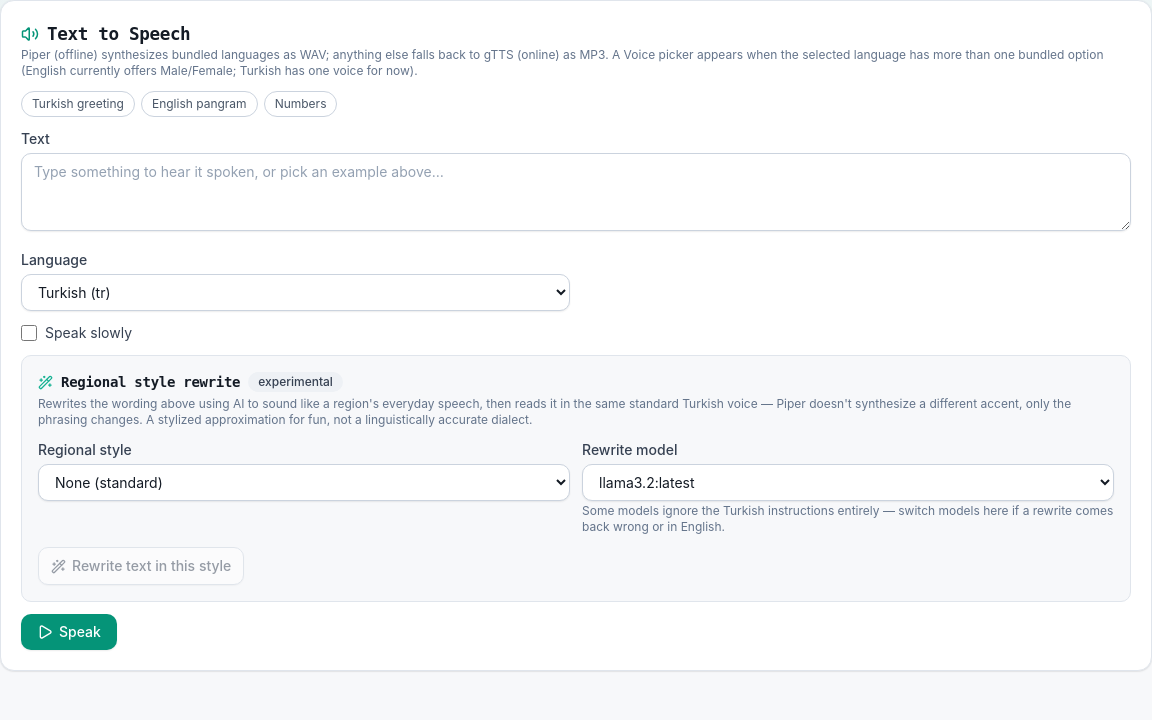
Scenario: TextToSpeechCard rewrite › restores the original text via Undo
This screenshot has width=1152, height=720.
In the text box labelled "Text": (576, 192) [21, 153, 1131, 231], type "Merhaba, nasılsın?"
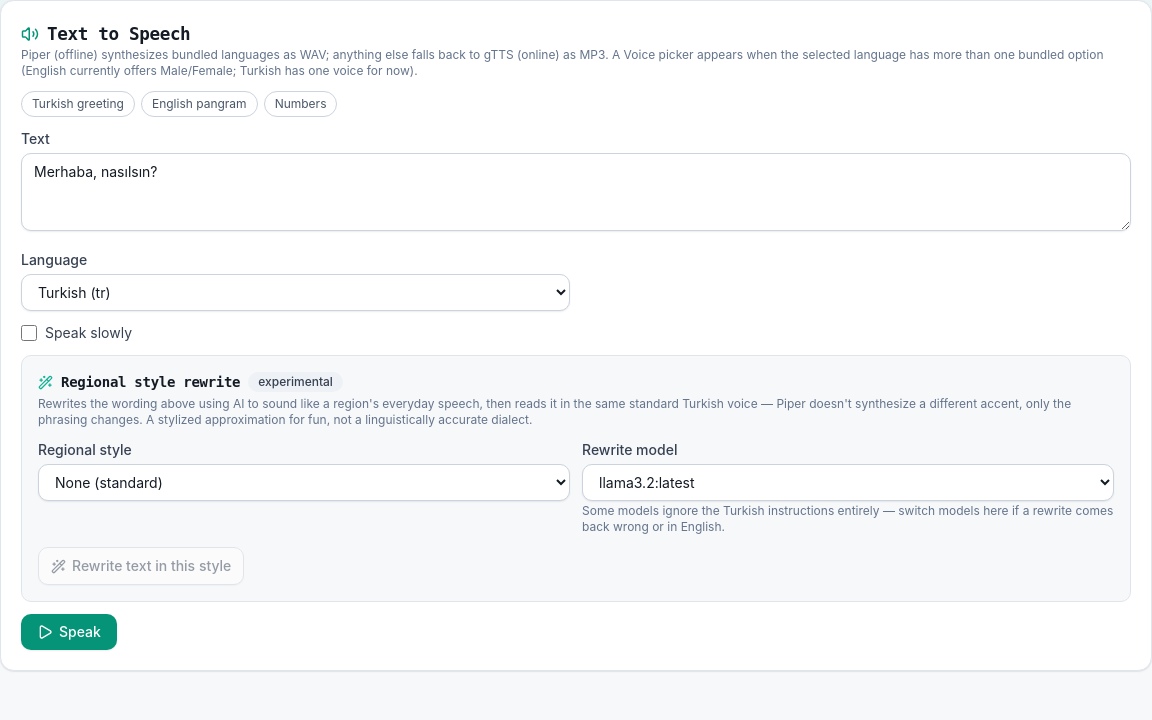
Select "Karadeniz" in the dropdown labelled "Regional style": (304, 483) [38, 464, 570, 501]
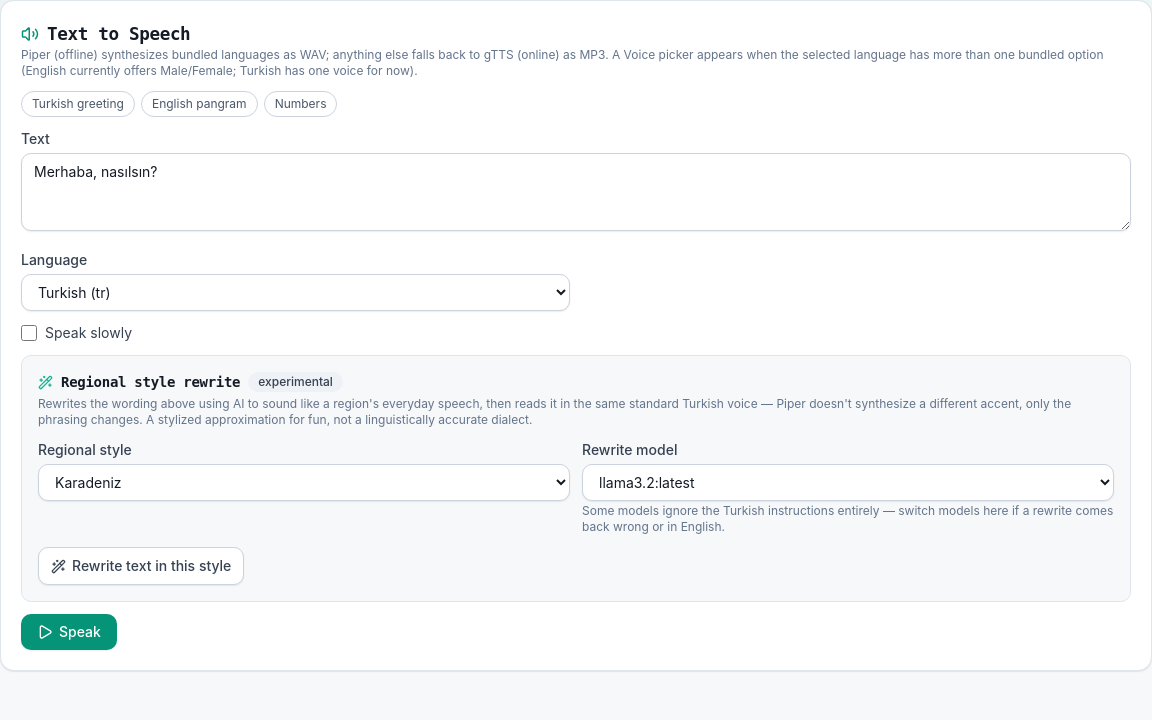
Click the button "Rewrite text in this style": (141, 566) [38, 547, 244, 585]
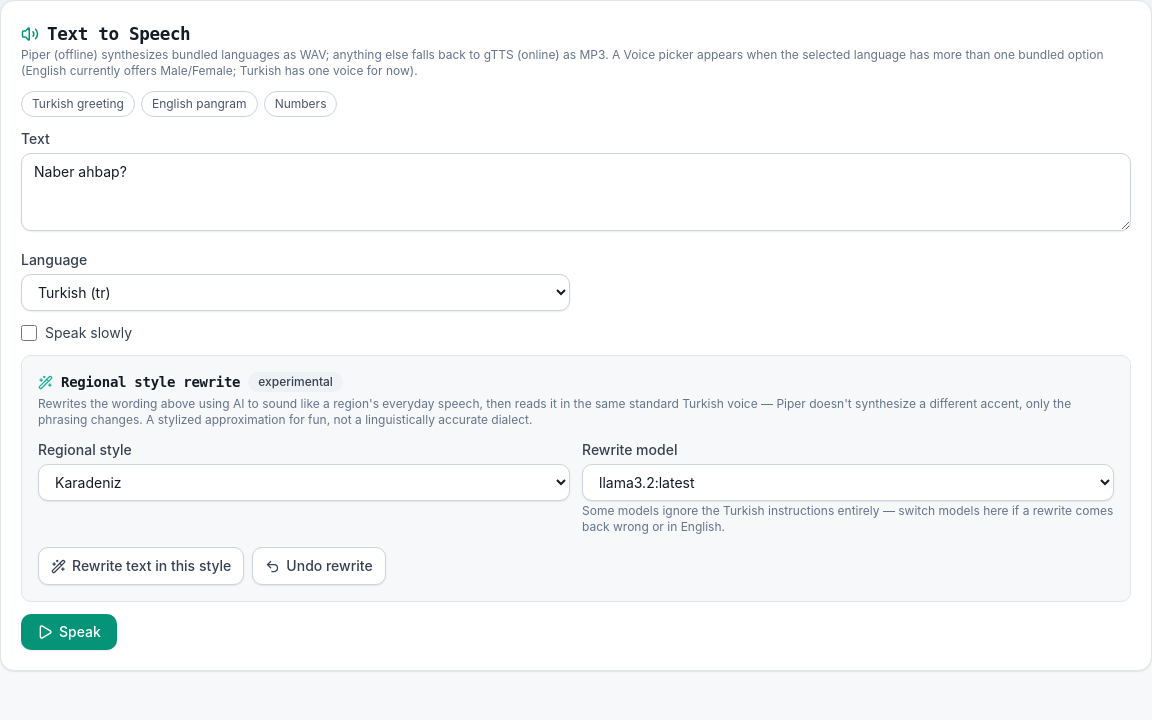
Check: the text box labelled "Text" holds "Naber ahbap?", box [21, 153, 1131, 231]
Click the button "Undo rewrite": (319, 566) [252, 547, 386, 585]
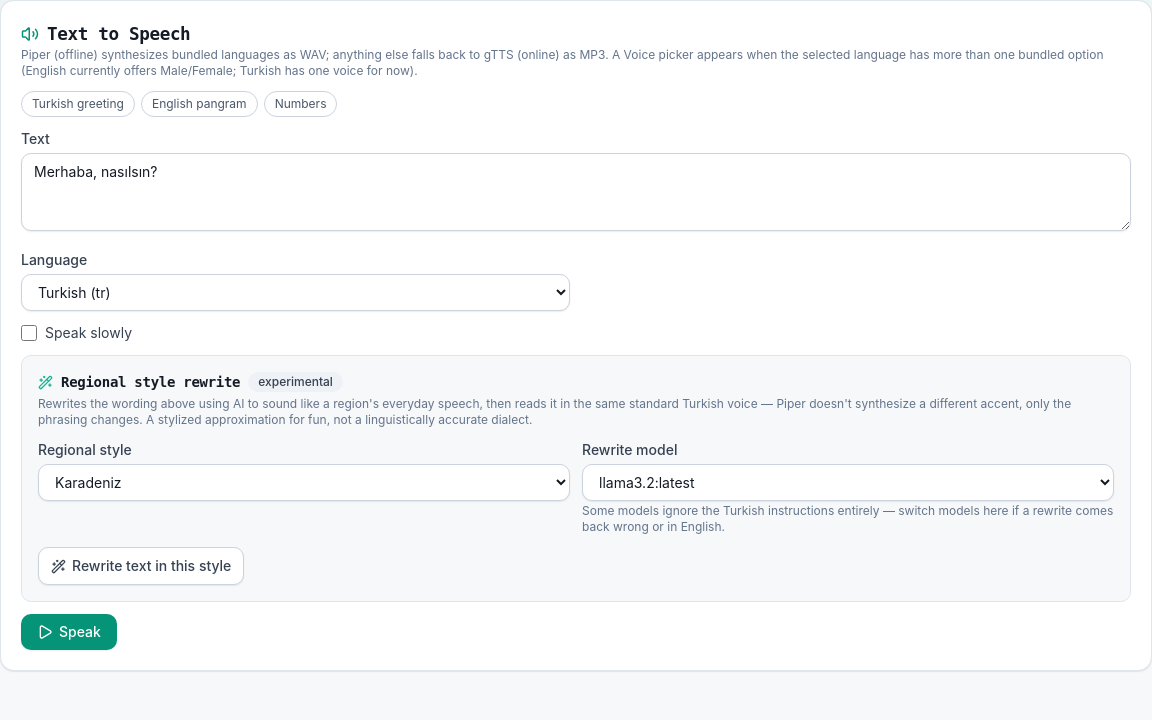
Check: the button "Undo rewrite" is gone
